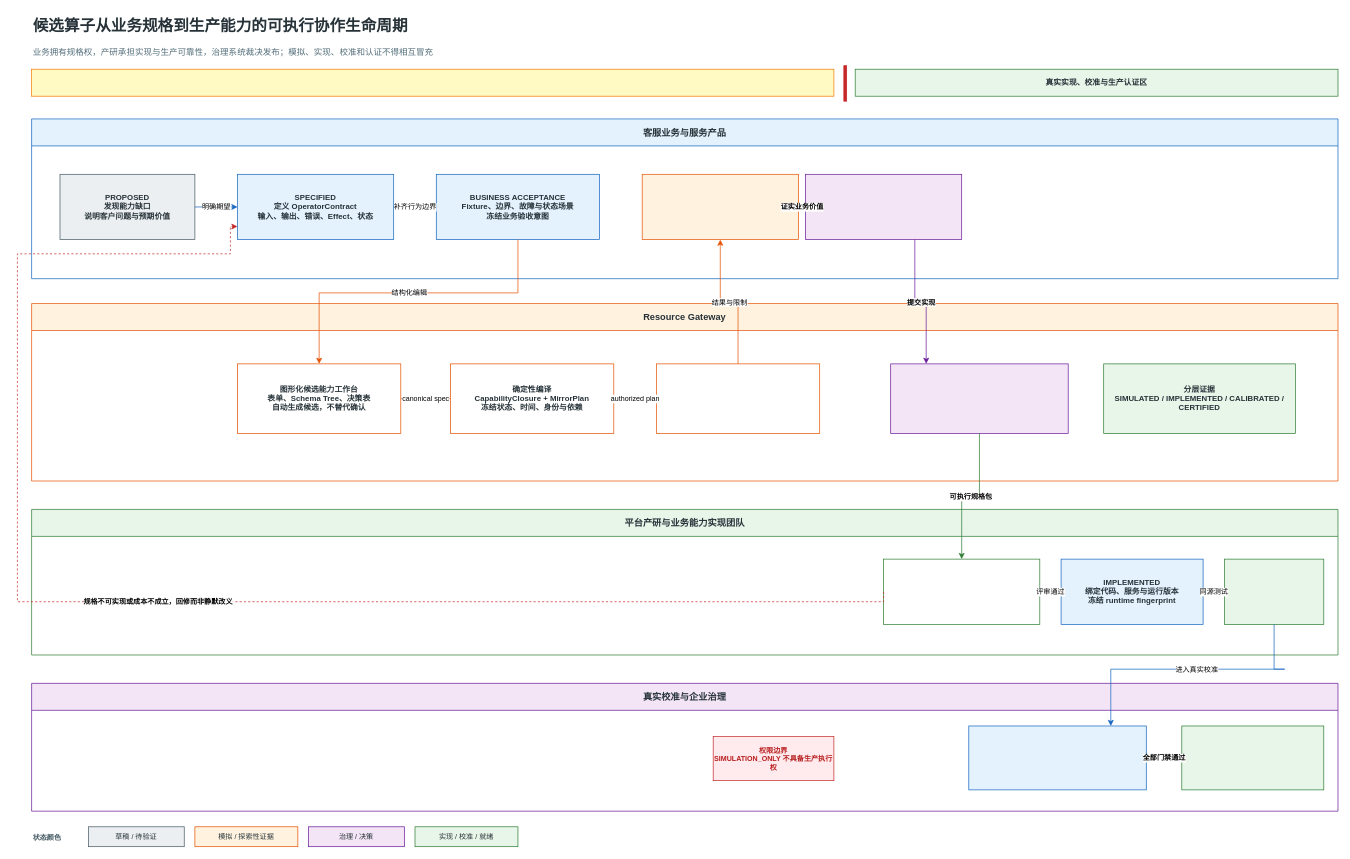
Image size: 1350x859. Some labels were removed from this diagram. The shapes that lost their labels are listed below. From the top down, each one's centre as x and y in pixels, then its label:
At (x=432, y=82): "业务规格与模拟价值验证区".
At (x=719, y=207): "SIMULATED 在完整流程中复核结果 识别覆盖、限制与价值假设".
At (x=883, y=207): "ACCEPTED 业务 Owner 接受价值假设 提交实现，不代表技术可行".
At (x=738, y=398): "隔离镜像运行 数据流控制反转、故障注入 真实外部写调用数为 0".
At (x=979, y=398): "可执行实现包 Contract + SDK scaffold + runtime port + 同源 conformance suite".
At (x=961, y=591): "TECHNICAL REVIEW 评估可实现性、安全、成本与 NFR 必要时回修业务规格".
At (x=1274, y=591): "CONFORMANT 复用业务验收套件 通过实现一致性与工程门禁".
At (x=1057, y=757): "CALIBRATED 只读 Shadow + 权威 Outcome Fidelity、置信度与 Drift 达标".
At (x=1252, y=757): "CERTIFIED Owner、SLO、安全、合规和发布门禁通过 只在批准范围内获得生产执行权".
